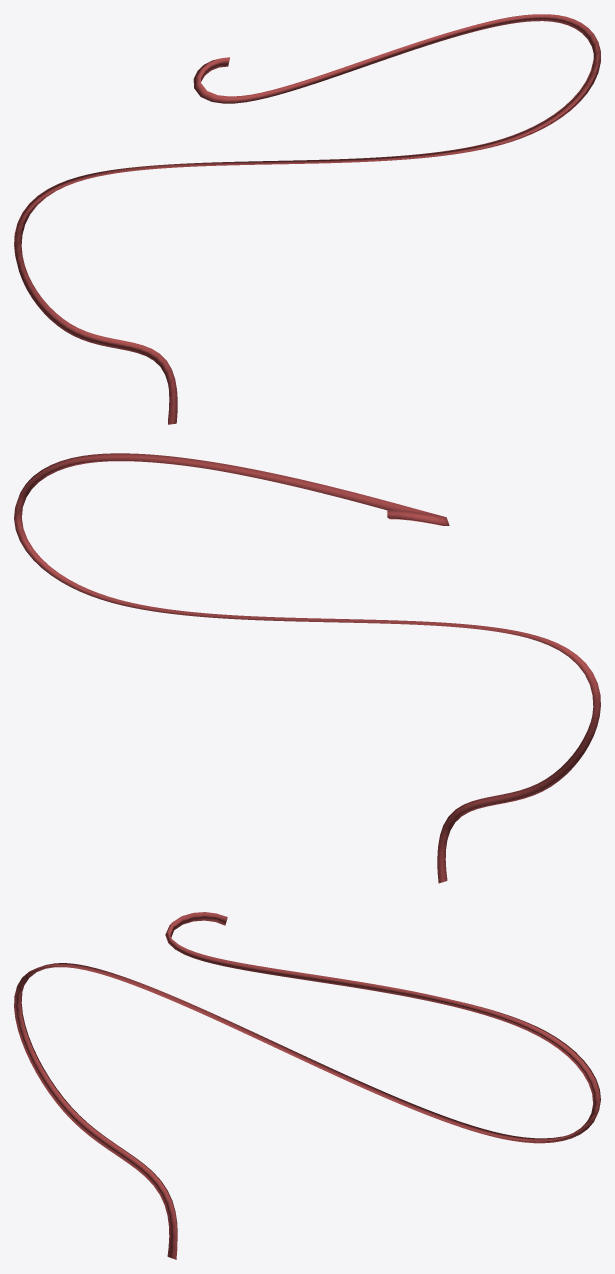
The model's file is wireTwoWild.fbx.
3 views of the same model, one above another, from view 1: azimuth 30°, elevation 25°; view 2: azimuth 150°, elevation 25°; view 3: azimuth 330°, elevation 25° (orthographic).
Visible parts, largest first — view 1: extrudedSurface11; view 2: extrudedSurface11; view 3: extrudedSurface11.
Part boxes in pixels (x1,y1,x2,y2): extrudedSurface11: (14,14,600,424); extrudedSurface11: (14,453,600,883); extrudedSurface11: (14,912,600,1259).
Bounding box in the file's own units: 94.55 × 55.16 × 8.97.
